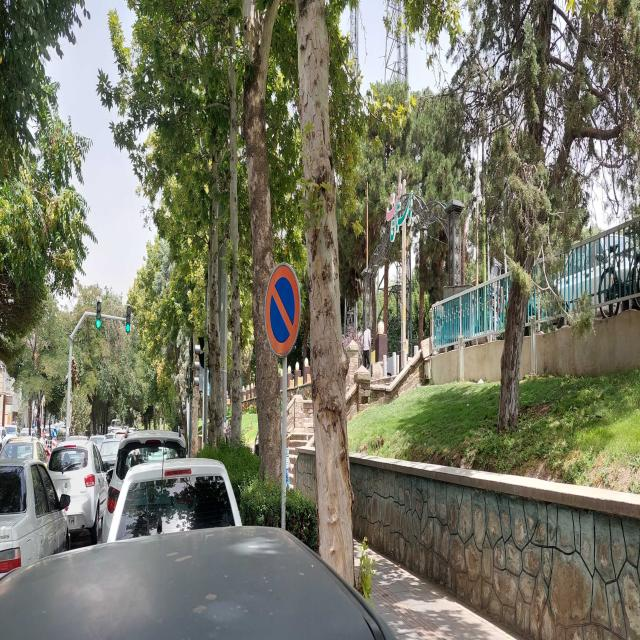forb_stopping: (265, 265, 301, 358)
